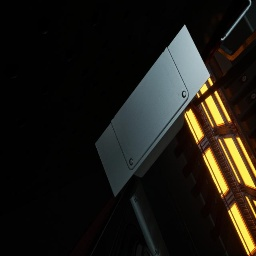SafetySwitchPanel ,: (95, 24, 211, 197)
